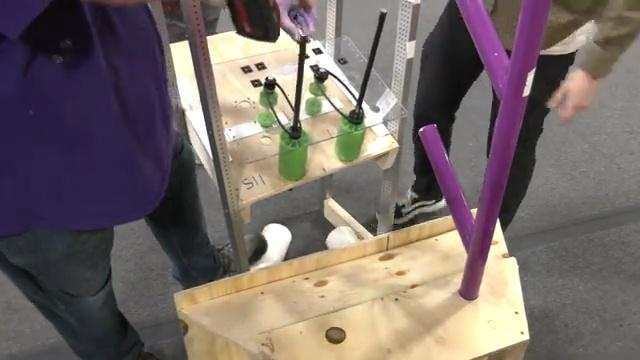CORAL: (248, 221, 292, 271), (326, 225, 357, 248)
